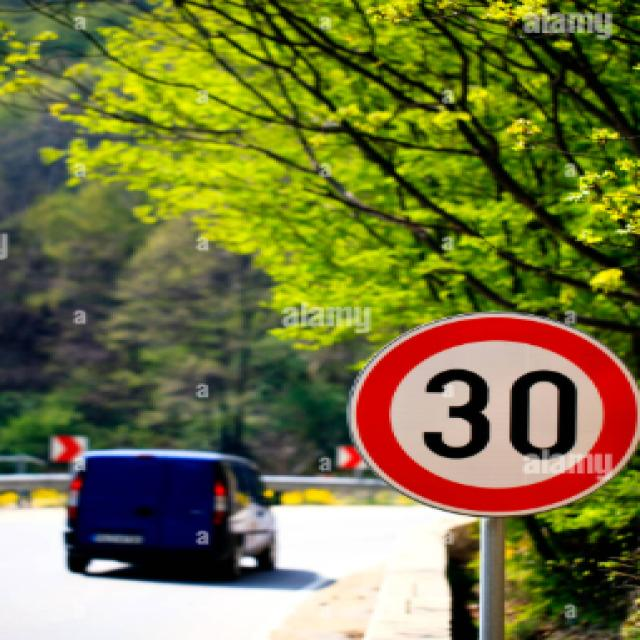speed_30: (346, 311, 640, 513)
